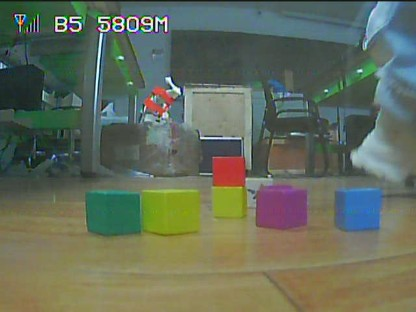b: (333, 190, 380, 227)
g: (85, 191, 137, 235)
r: (213, 156, 244, 183)
